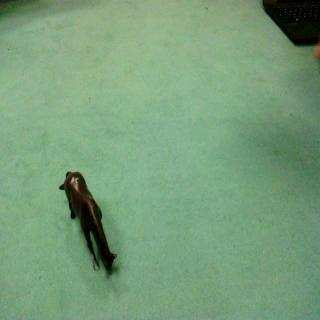horse: (57, 168, 123, 280)
